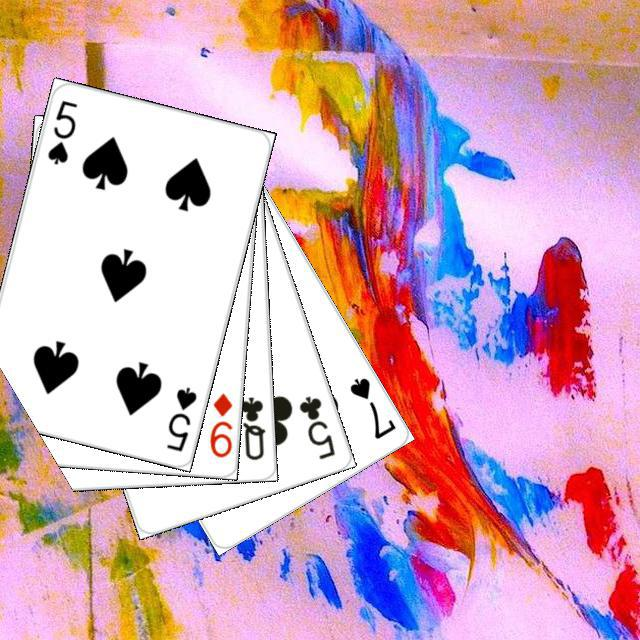5c: (294, 390, 337, 461)
5s: (161, 382, 199, 453), (42, 95, 79, 166)
7s: (344, 372, 397, 441)
9d: (205, 388, 234, 459)
Qc: (229, 386, 267, 462)
